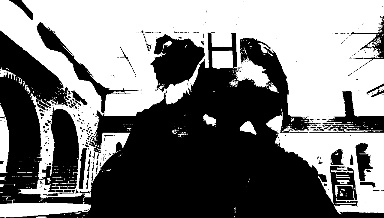H: (201, 28, 241, 69)
